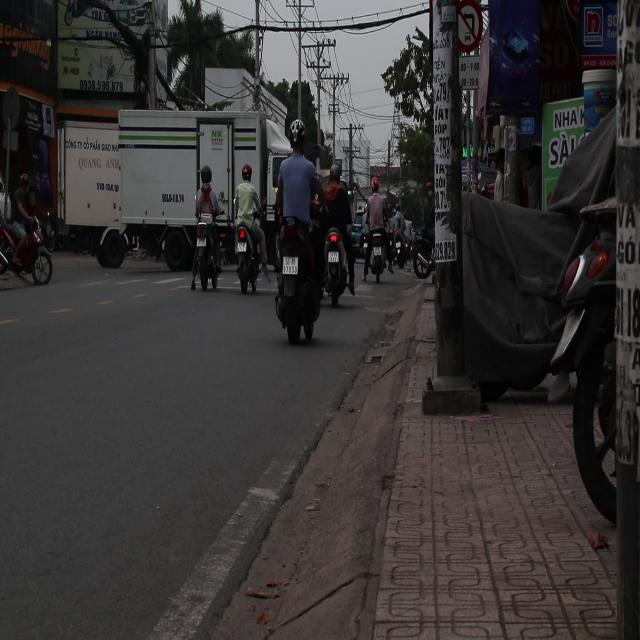motorbike: (272, 215, 323, 347), (2, 204, 54, 287), (188, 219, 218, 295), (328, 230, 348, 308), (236, 222, 256, 299), (368, 227, 389, 289)
truck: (41, 108, 290, 274)
